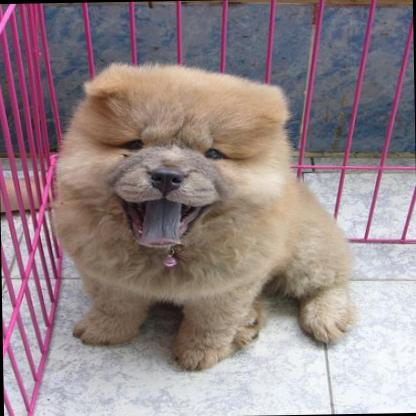chow: (46, 57, 353, 374)
